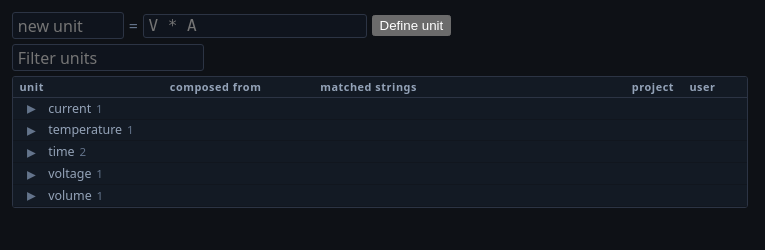
Test: the units section › shows a spelling the moment it is added and again when it is removed
Step 1. Click the button "▸" next to "current" → (31, 108), box [19,99,43,117]
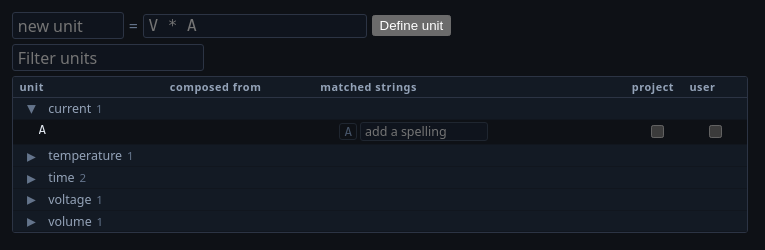
Result: the list item "A" is shown at [39,122,46,137]
Step 2. Type "Amps" into the field named "Map a unit string to A" → (424, 131), box [360,122,488,141]
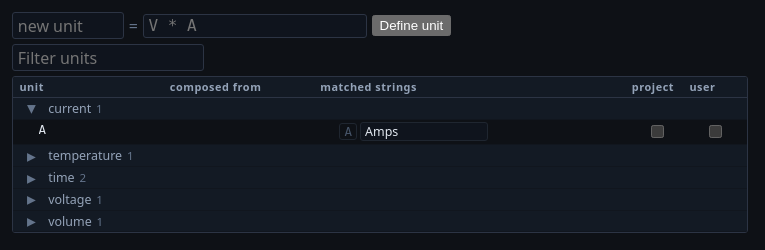
Step 3. Press Enter in the field named "Map a unit string to A", box [360,122,488,141]
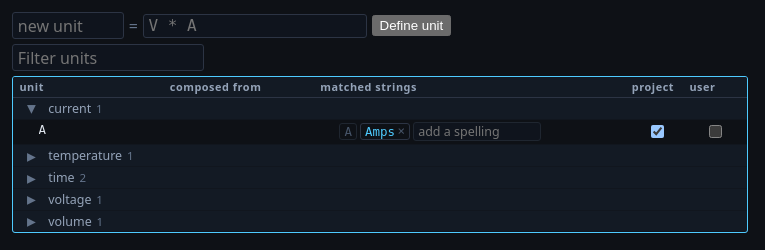
Result: the text "Amps" is shown at [365,124,395,139]
Step 4. Click the button named "Remove the mapping for Amps" → (401, 131), box [398,125,405,138]
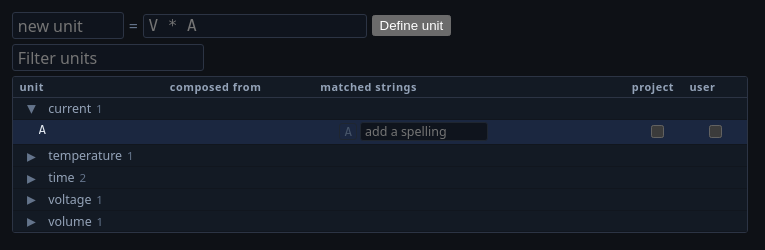
Result: the text "Amps" is gone
